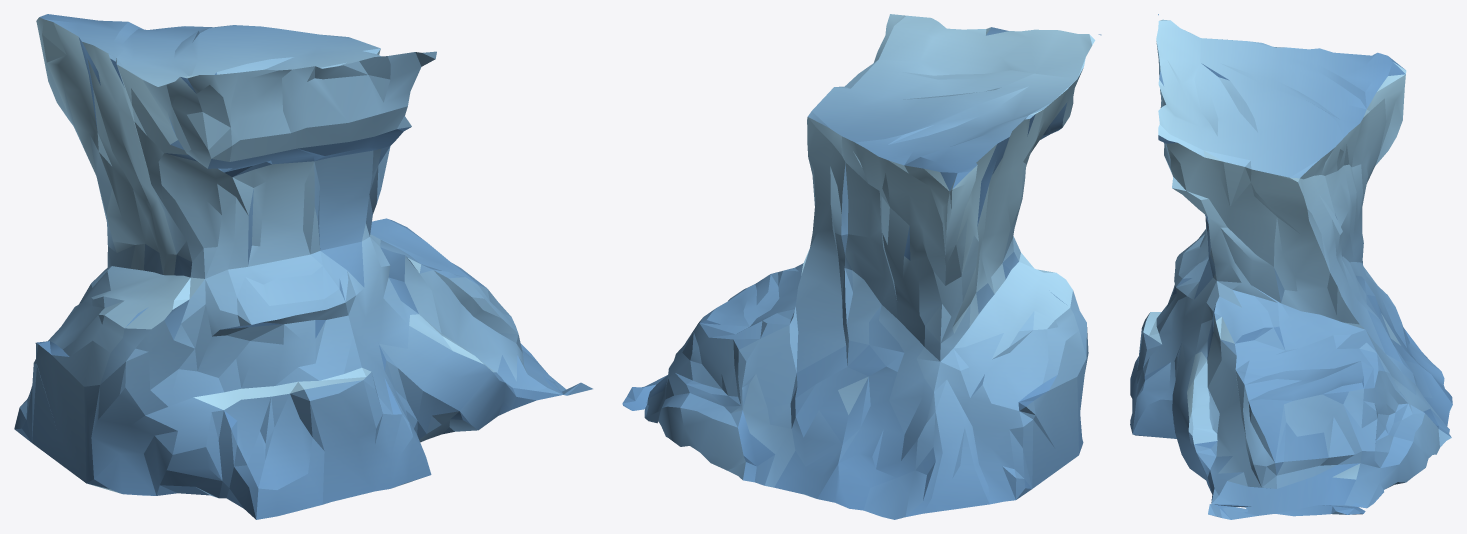
Rendered from SnowHigh-3.glb.
The picture shows the model from 3 angles, left to right: view 1: azimuth 30°, elevation 25°; view 2: azimuth 150°, elevation 25°; view 3: azimuth 270°, elevation 25°; orthographic projection. The views are drawn at different scales.
Visible parts, largest first — view 1: SnowHigh-3-col; view 2: SnowHigh-3-col; view 3: SnowHigh-3-col.
Boxes of the visible parts, bbox=[...] form: SnowHigh-3-col: bbox=[14, 14, 592, 519]; SnowHigh-3-col: bbox=[622, 14, 1101, 519]; SnowHigh-3-col: bbox=[1130, 14, 1452, 519].
Size of the model in its own units: 5.26 by 4.8 by 4.06.
Materials: 1 (1 with a texture image).
